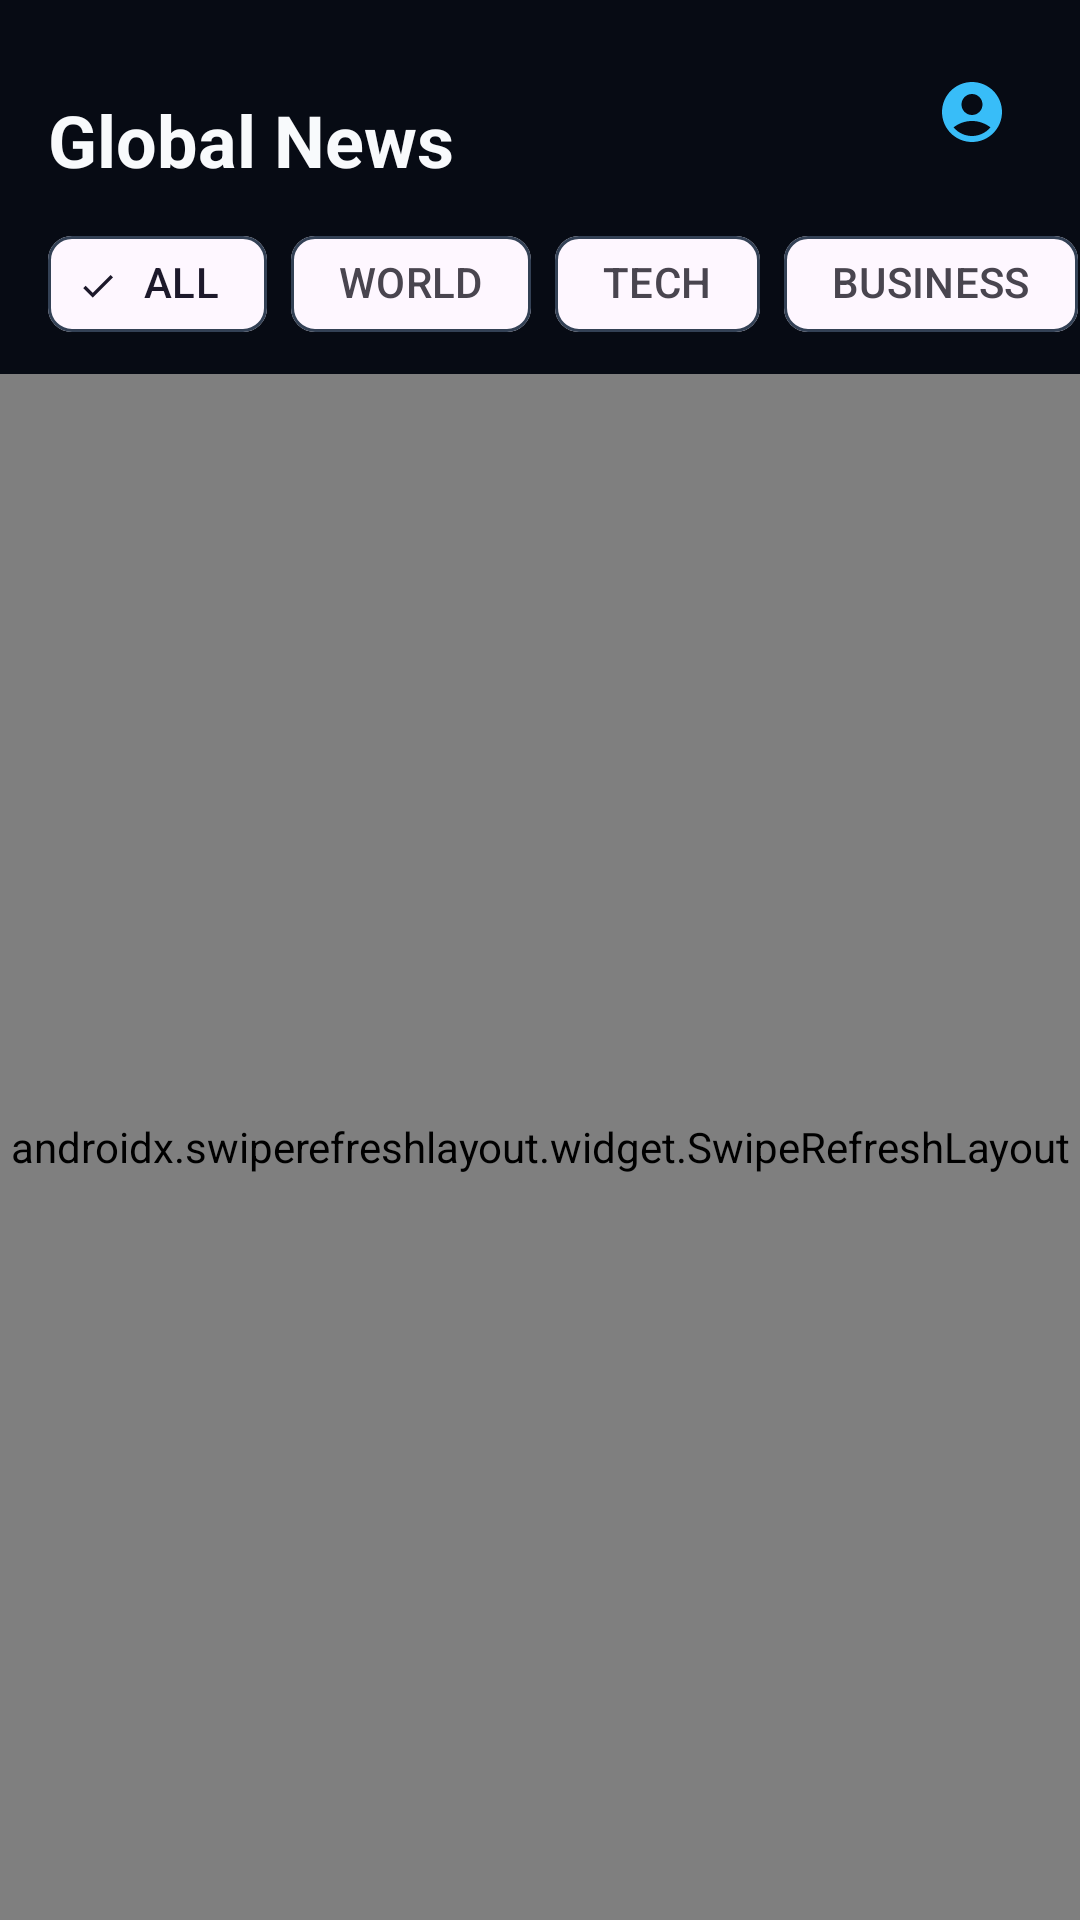

Where to tap for icons on this 1080w x 1920h app screen, as point (x, y):
Account: point (972, 112)
